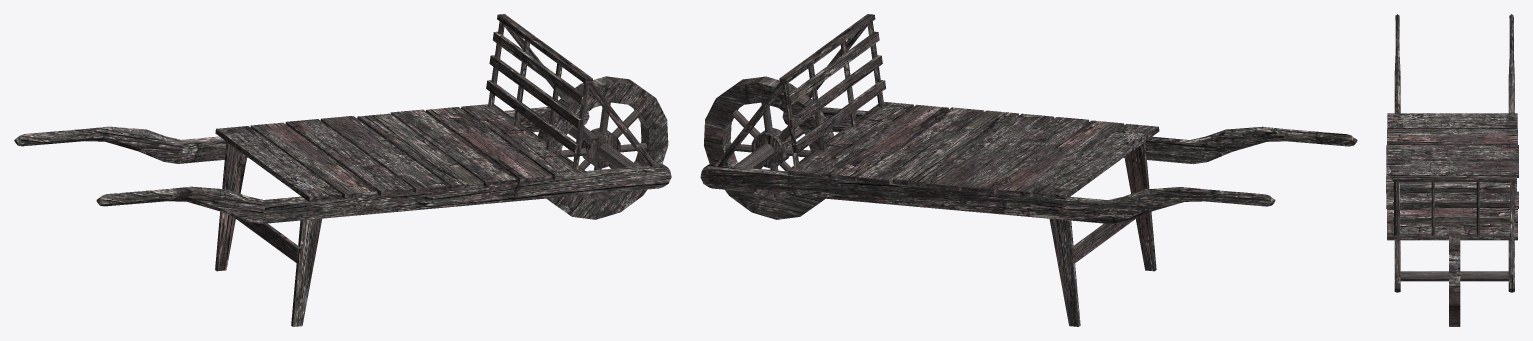
Rendered from handwheel.fbx.
3 renders of one model, left to right at view 1: azimuth 30°, elevation 25°; view 2: azimuth 150°, elevation 25°; view 3: azimuth 270°, elevation 25°, orthographic. The views are drawn at different scales.
Visible parts, largest first — view 1: Circle.001; view 2: Circle.001; view 3: Circle.001.
Boxes of the visible parts, x1,y1,x2,y2 form: Circle.001: [14, 14, 671, 326]; Circle.001: [700, 14, 1357, 326]; Circle.001: [1386, 14, 1518, 326].
Bounding box in the file's own units: 1267 × 365 × 345.
1 material, 1 textured.
